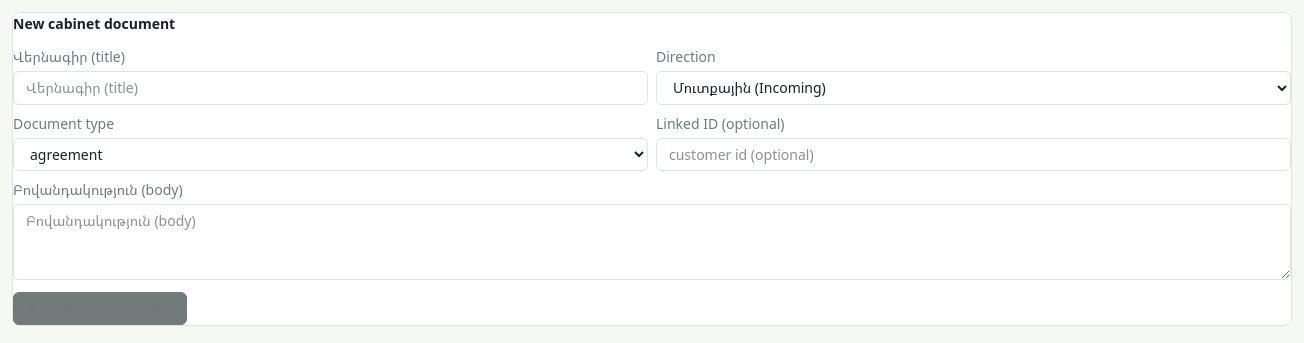
Test case: Cabinet — subcomponents › CabinetCreateForm keeps the submit button disabled until title has ≥3 chars
This screenshot has width=1304, height=343.
Check: the button with test id "cabinet-create-submit" is disabled, box [13, 292, 187, 325]
Type "abc" into the field labelled "Վերնագիր (title)".
click(330, 88); type("abc")  # box [13, 71, 648, 104]
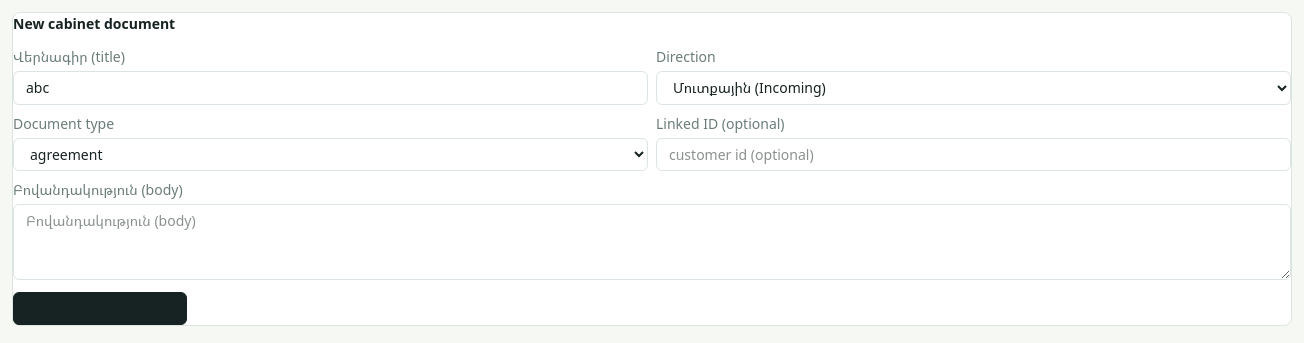
Check: the button with test id "cabinet-create-submit" is enabled, box [13, 292, 187, 325]
